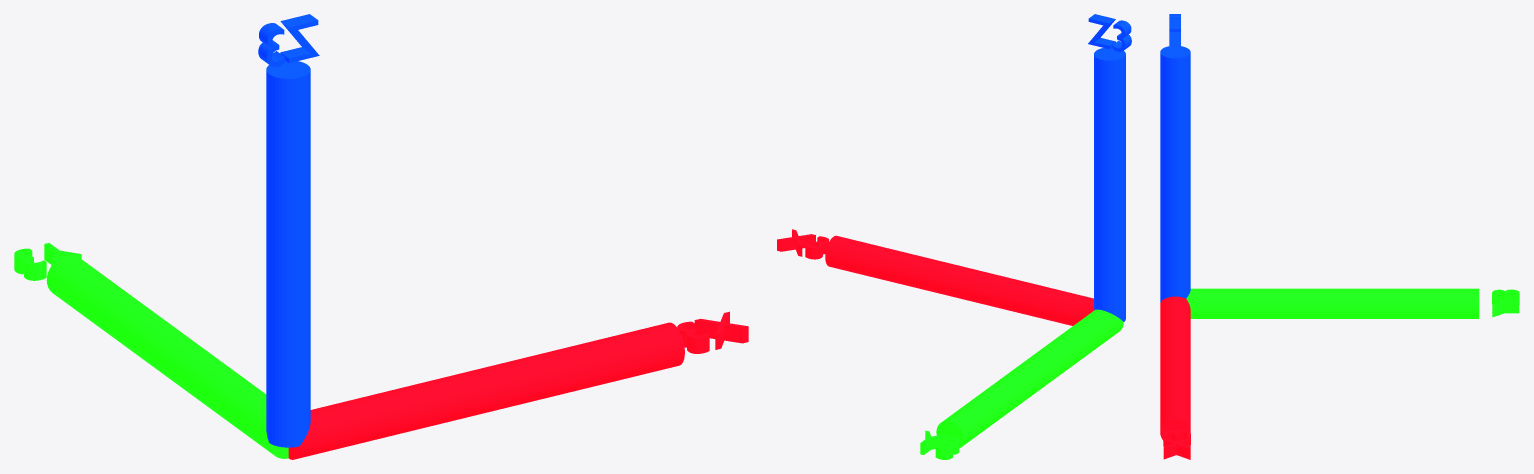
The model's file is axis_frame_3.dae.
3 views of the same model, side by side, from view 1: azimuth 30°, elevation 25°; view 2: azimuth 150°, elevation 25°; view 3: azimuth 270°, elevation 25° (orthographic). The views are drawn at different scales.
Visible parts, largest first — view 1: Text; view 2: Text; view 3: Text.
Boxes of the visible parts, <box> form: Text: <box>14,14,748,459</box>; Text: <box>777,14,1131,459</box>; Text: <box>1160,14,1519,459</box>.
Bounding box in the file's own units: 0.9321 × 0.887 × 0.8102.
